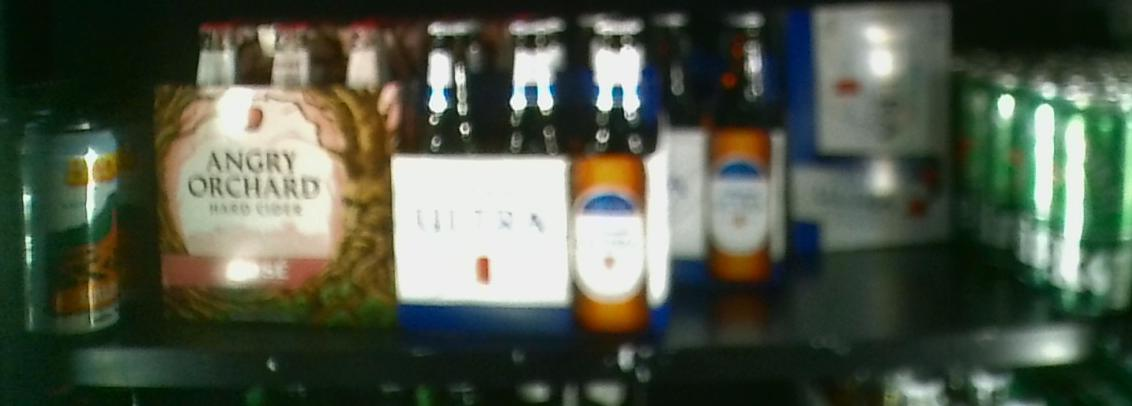bottle: (402, 19, 665, 330), (153, 20, 398, 319)
